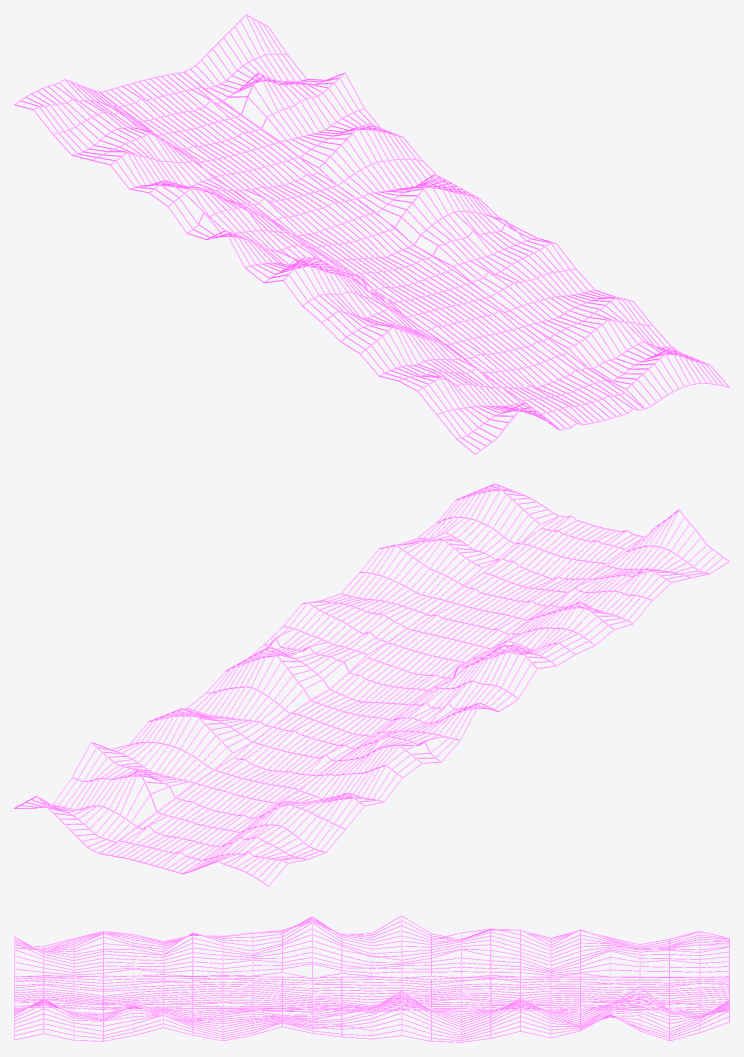
Rendered from sueloFinal.gltf.
3 renders of one model, top to bottom at view 1: azimuth 30°, elevation 25°; view 2: azimuth 150°, elevation 25°; view 3: azimuth 270°, elevation 25°, orthographic. The views are drawn at different scales.
Parts seen in each view (by area): view 1: Plane (×3); view 2: Plane (×3); view 3: Plane (×3).
Part boxes in pixels (x1,y1,x2,y2): Plane (×3): [14, 14, 729, 454]; Plane (×3): [14, 483, 729, 886]; Plane (×3): [14, 915, 729, 1042].
Bounding box in the file's own units: 480 × 104 × 1502.
